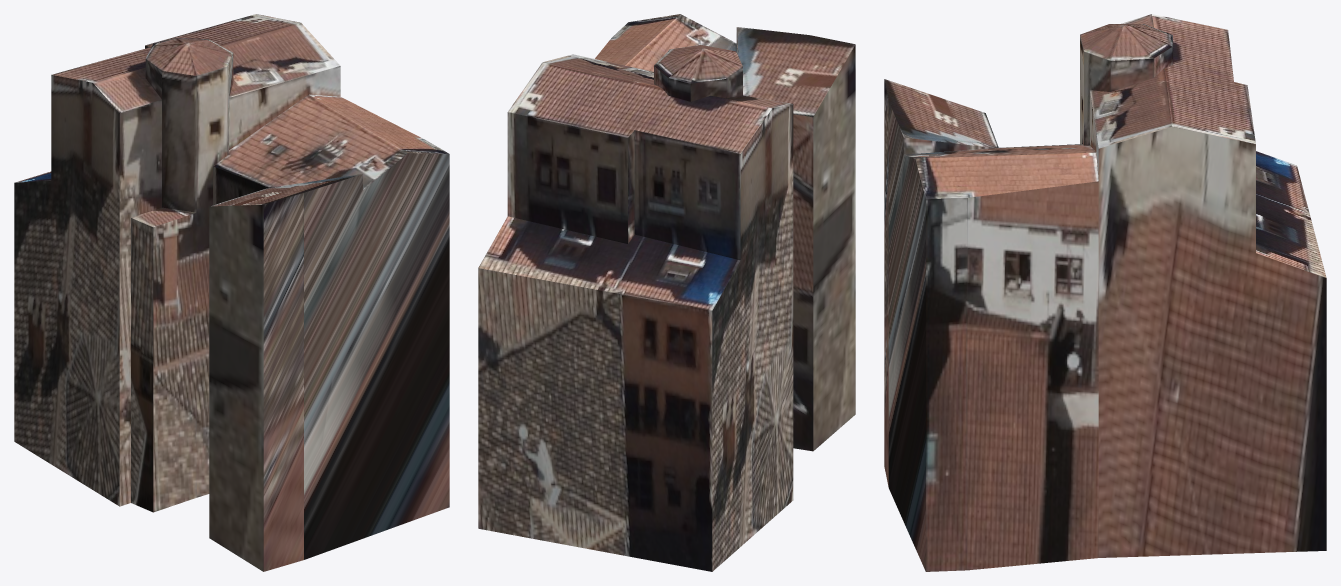
3 renders of one model, left to right at view 1: azimuth 30°, elevation 25°; view 2: azimuth 150°, elevation 25°; view 3: azimuth 270°, elevation 25°, orthographic. The views are drawn at different scales.
Parts seen in each view (by area): view 1: Z_UP; view 2: Z_UP; view 3: Z_UP.
Boxes of the visible parts, <box> form: Z_UP: <box>14,14,449,571</box>; Z_UP: <box>478,14,855,571</box>; Z_UP: <box>884,14,1326,571</box>.
Size of the model in its own units: 14.4 by 23.19 by 20.18.
Materials: 2 (1 with a texture image).
